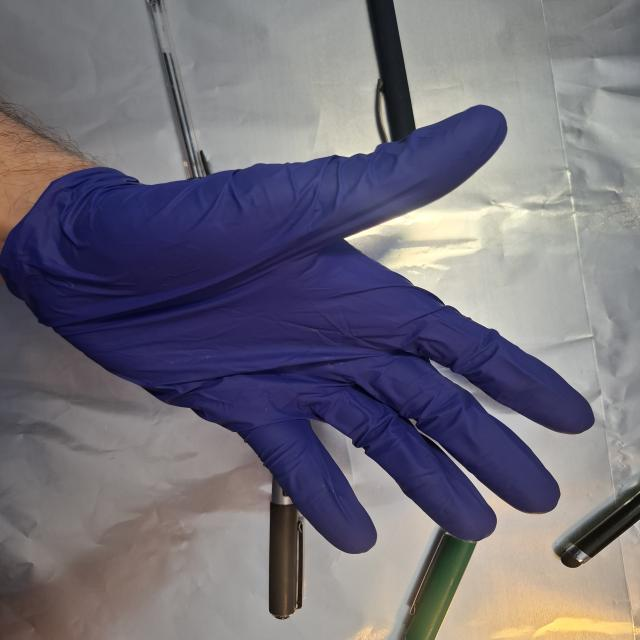glove_on: (8, 102, 599, 558)
